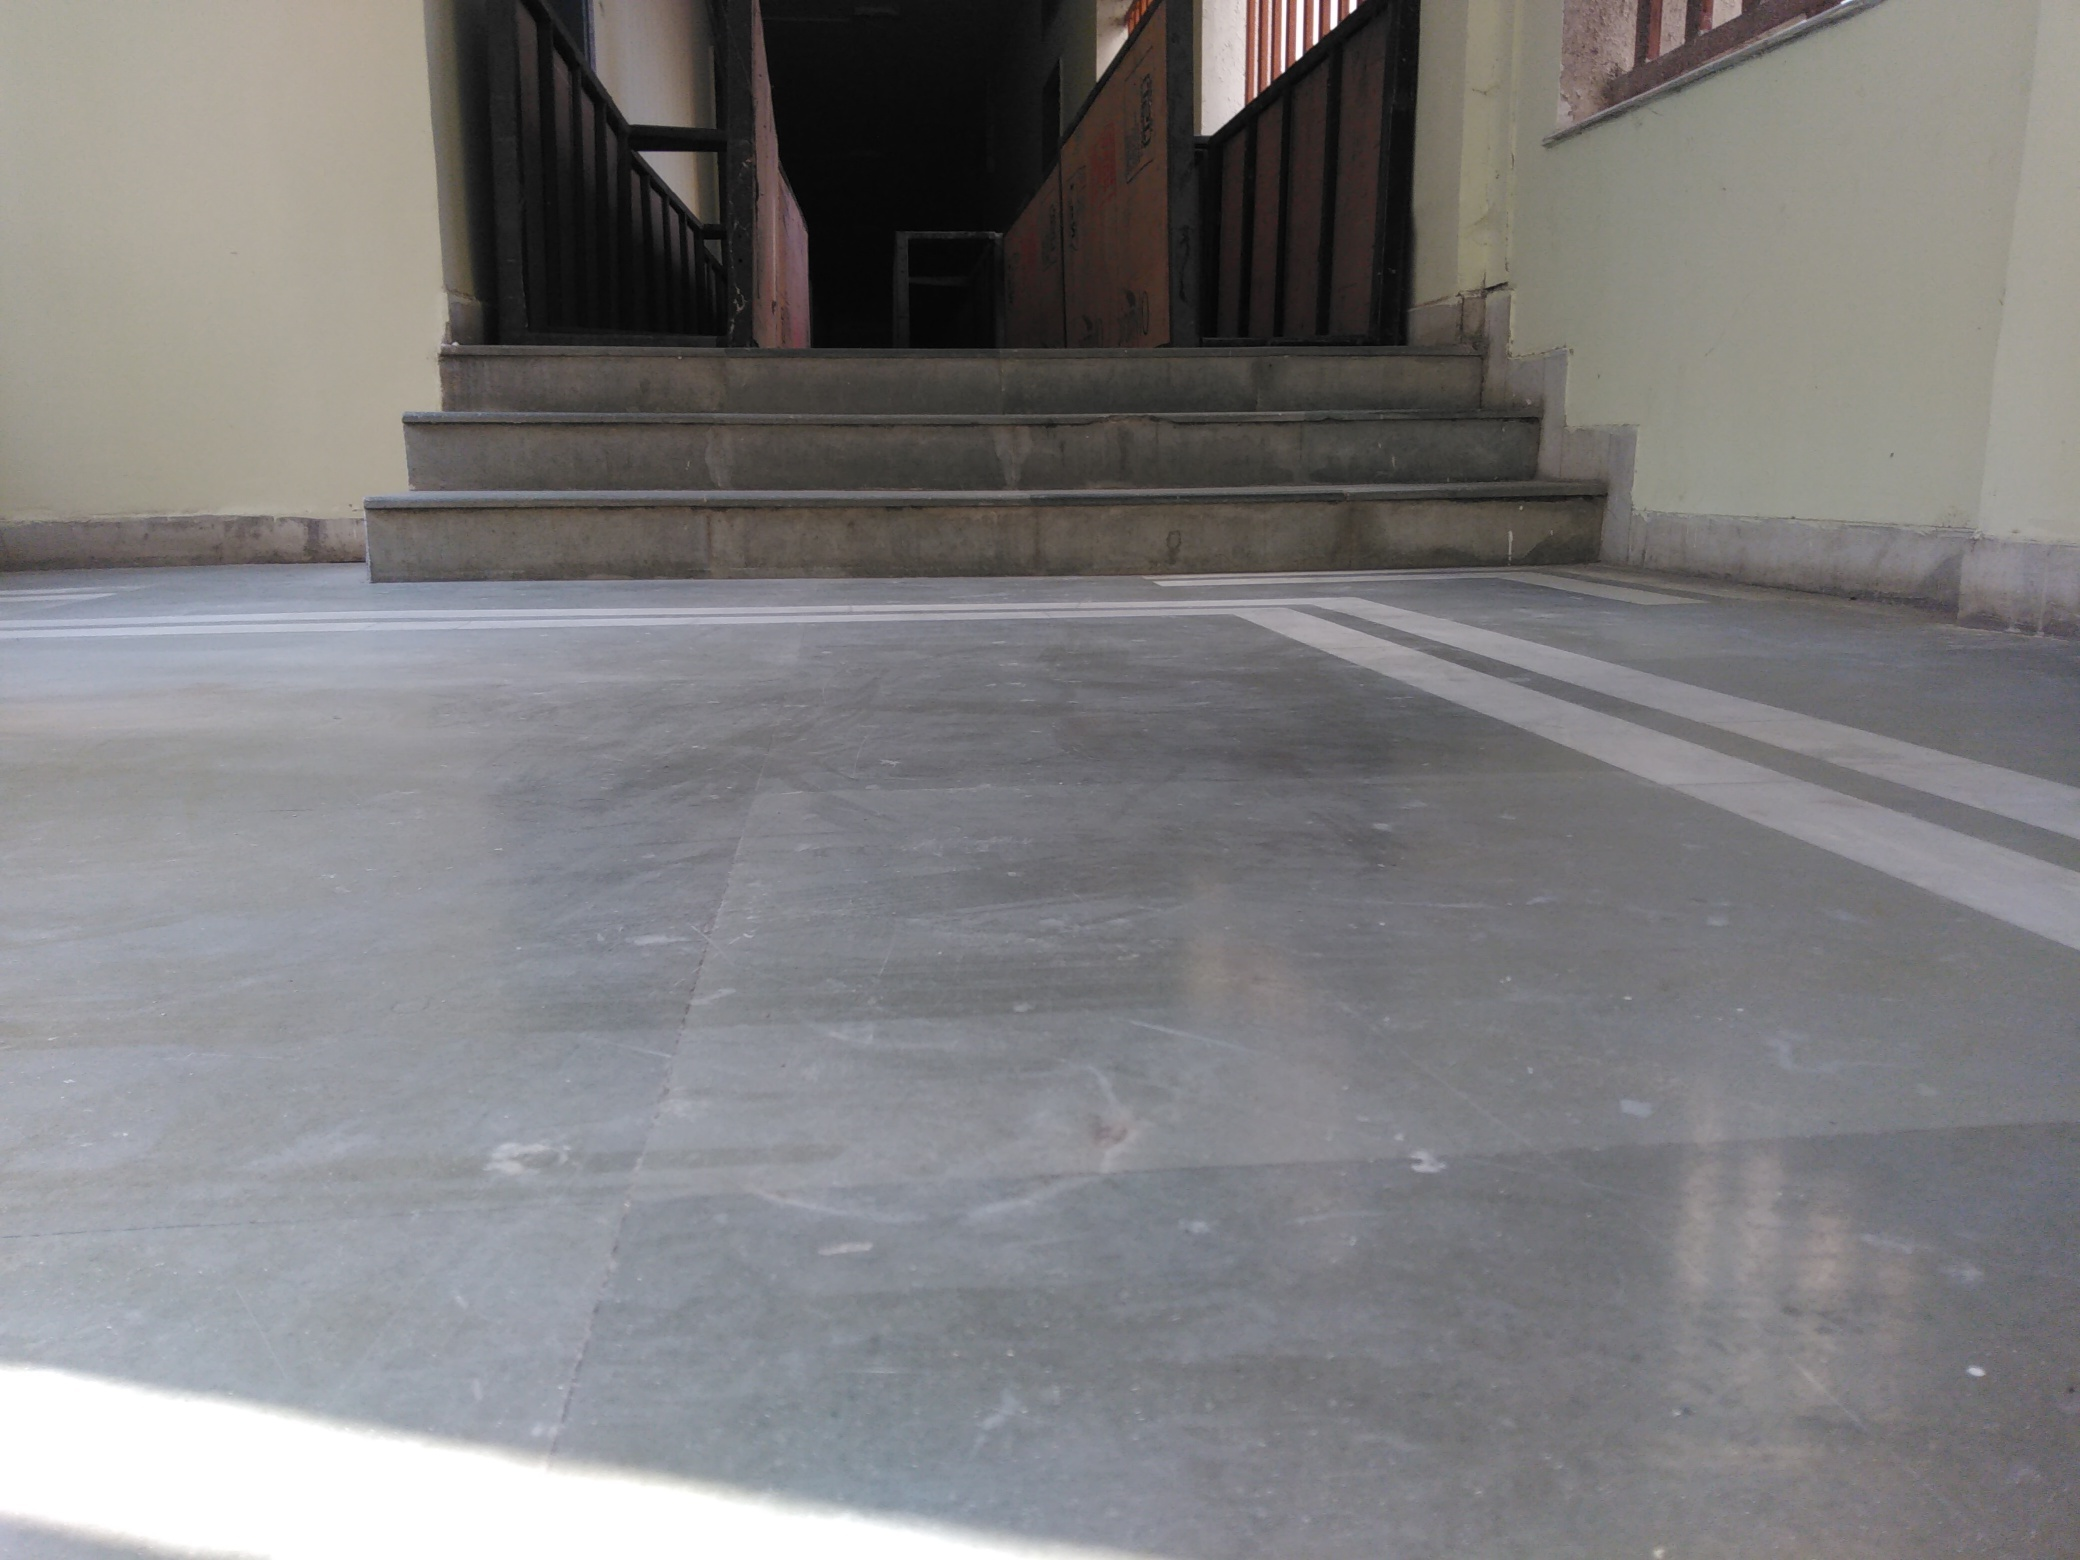stairs_up: (354, 334, 1620, 565)
